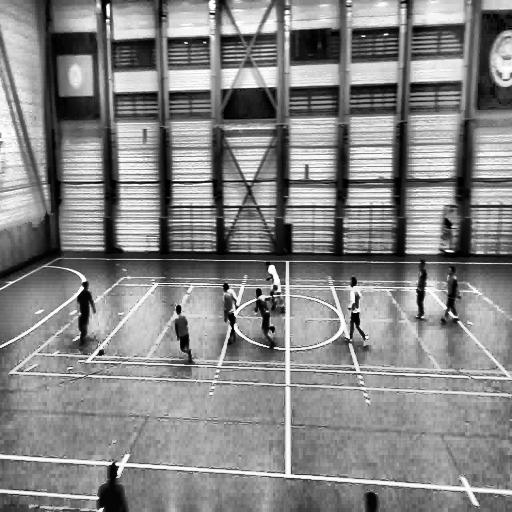ball: (98, 345, 104, 355)
player: (340, 276, 368, 346), (252, 288, 278, 349), (174, 302, 196, 364), (76, 281, 95, 346), (265, 259, 287, 314), (442, 265, 460, 323), (223, 283, 239, 344), (416, 259, 427, 320)
